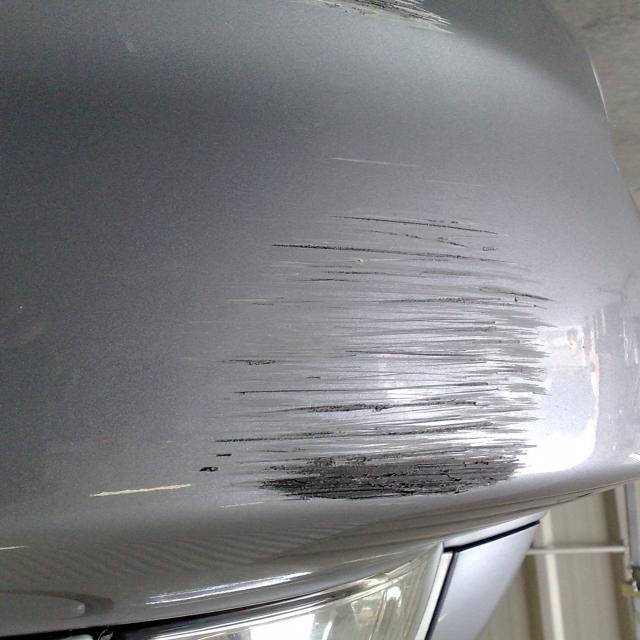scratch: (179, 195, 570, 534)
